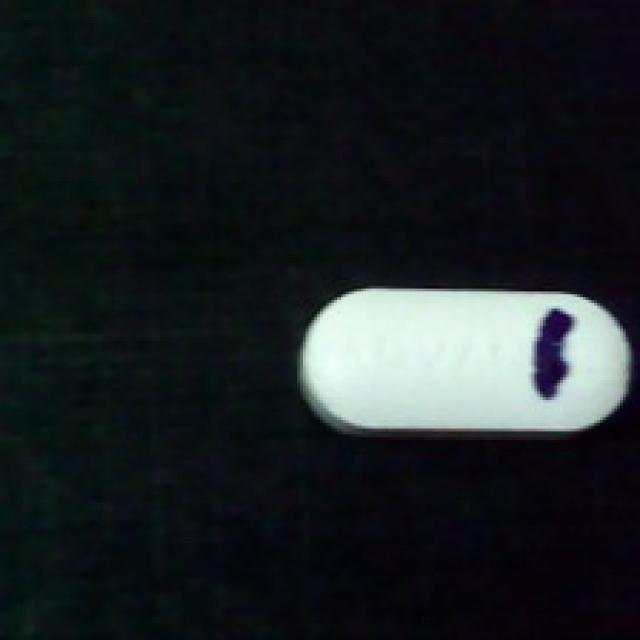defected: (291, 274, 640, 446)
